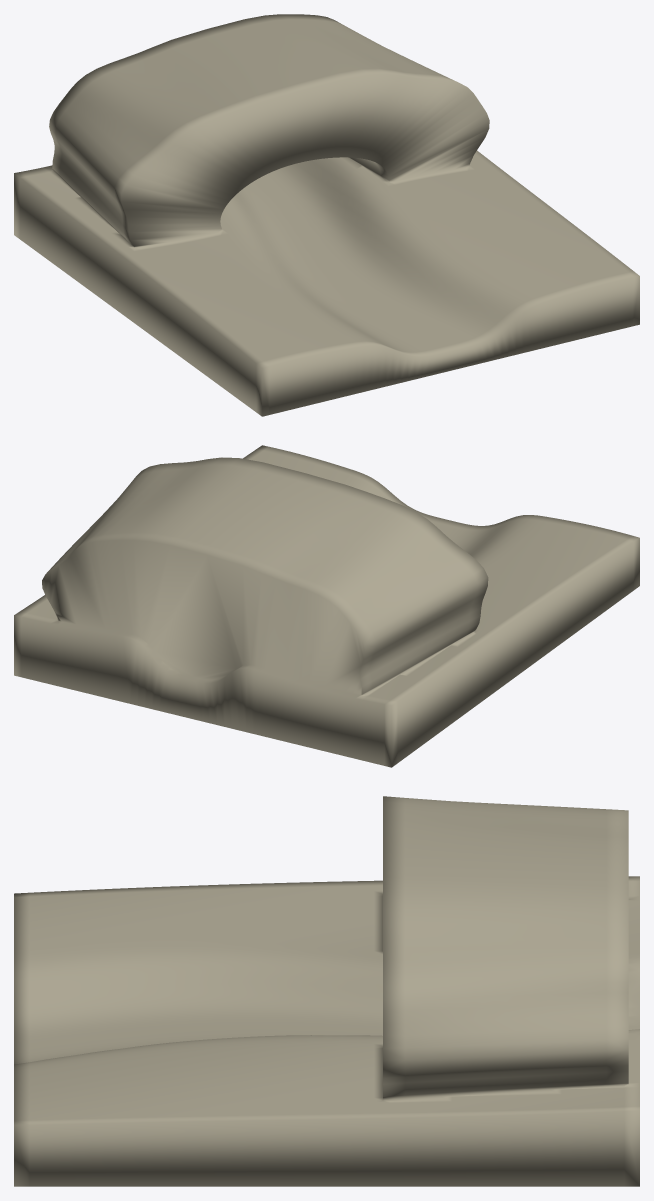
File: karst-spring-mouth.glb
3 views of the same model, one above another, from view 1: azimuth 30°, elevation 25°; view 2: azimuth 150°, elevation 25°; view 3: azimuth 270°, elevation 25° (orthographic). The views are drawn at different scales.
Parts seen in each view (by area): view 1: continuous-thick-rock-roof-low-spring-cavity-and-wall; view 2: continuous-thick-rock-roof-low-spring-cavity-and-wall; view 3: continuous-thick-rock-roof-low-spring-cavity-and-wall.
Part boxes in pixels (x1,y1,x2,y2): continuous-thick-rock-roof-low-spring-cavity-and-wall: [14, 14, 639, 416]; continuous-thick-rock-roof-low-spring-cavity-and-wall: [14, 445, 639, 767]; continuous-thick-rock-roof-low-spring-cavity-and-wall: [14, 796, 639, 1186].
Size of the model in its own units: 3 by 1.32 by 3.41.
